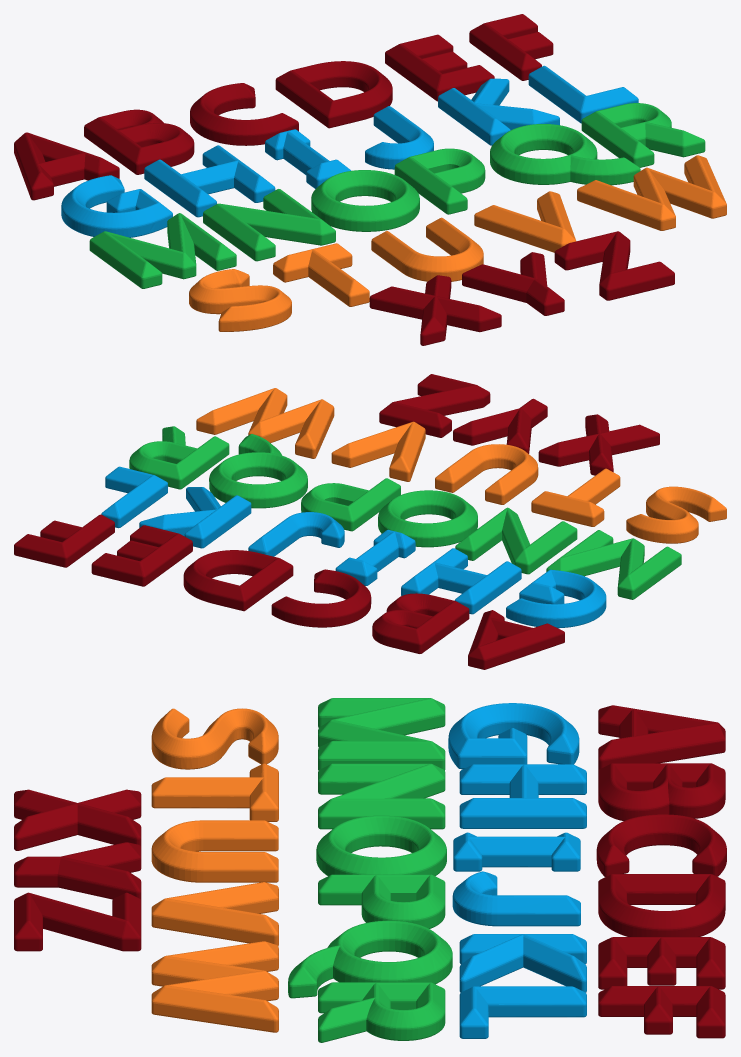
The model's file is Printable letters.glb.
The picture shows the model from 3 angles, top to bottom: view 1: azimuth 30°, elevation 25°; view 2: azimuth 150°, elevation 25°; view 3: azimuth 270°, elevation 25°; orthographic projection. The views are drawn at different scales.
Bounding box in the file's own units: 0.118 × 0.00424 × 0.109.
